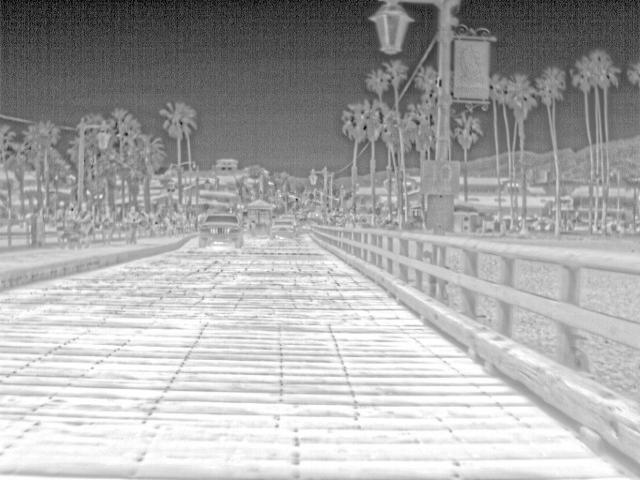car: (196, 209, 243, 246), (267, 215, 299, 239)
person: (73, 200, 94, 248), (122, 202, 141, 244), (51, 200, 68, 246), (98, 202, 113, 246), (113, 202, 125, 242)
